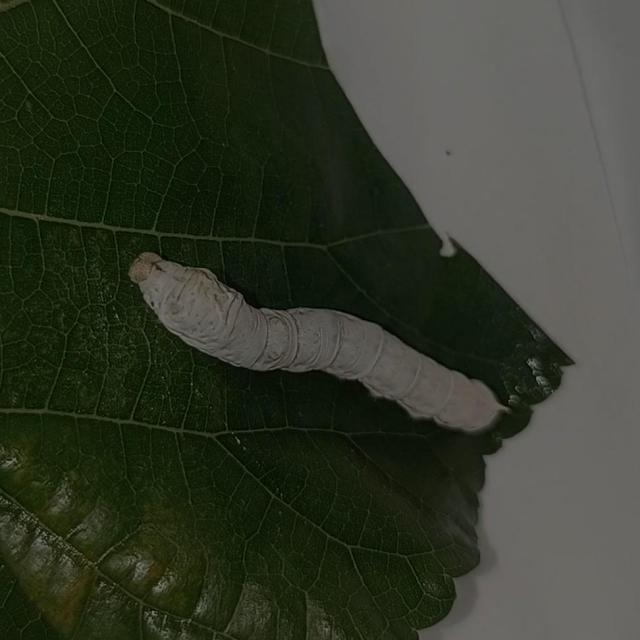Healthy: (118, 227, 534, 467)
